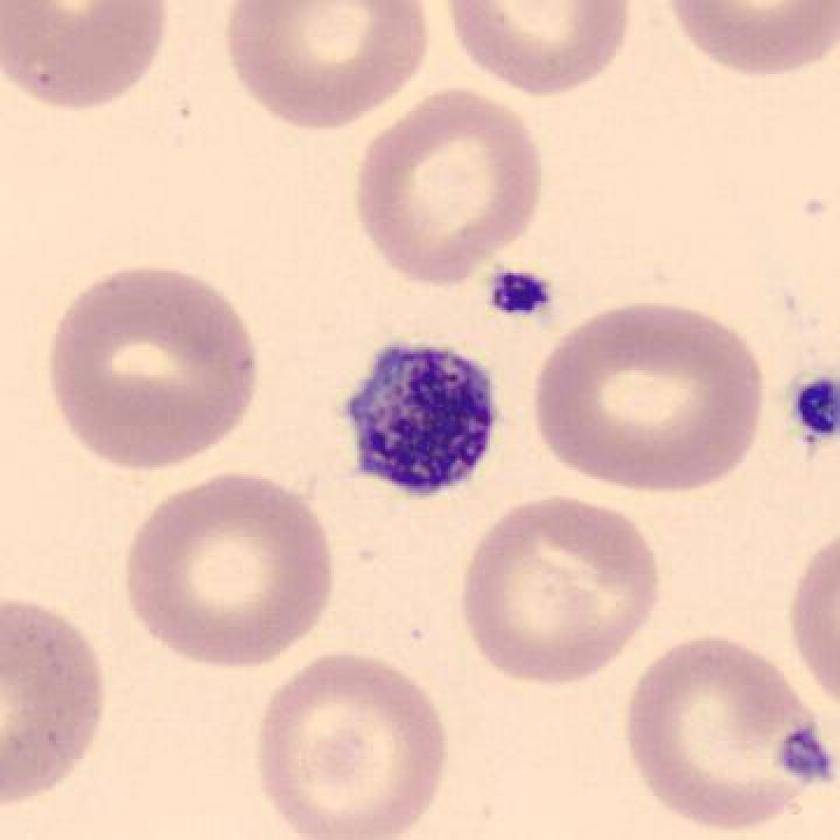platelets: (344, 337, 510, 510), (479, 253, 559, 334), (773, 721, 840, 797), (785, 371, 840, 448)
